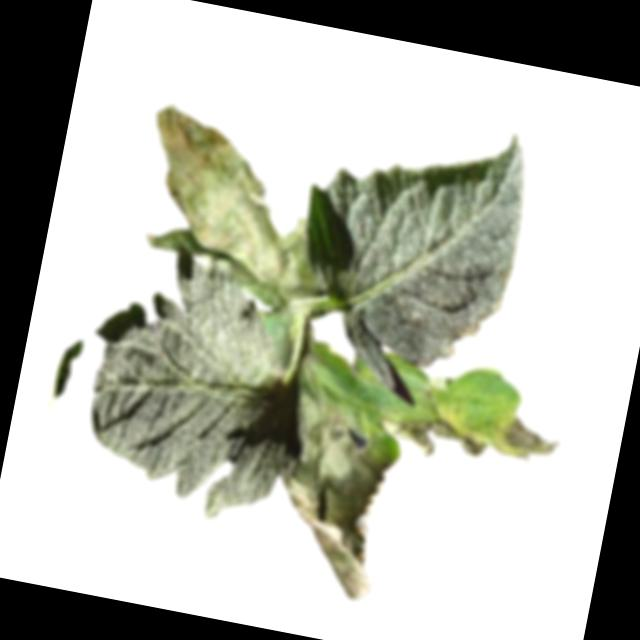Late_blight: (124, 101, 352, 315), (267, 398, 407, 605), (390, 405, 496, 468), (489, 412, 567, 469), (419, 373, 459, 416), (299, 350, 334, 383)
healthy: (275, 96, 539, 410), (63, 232, 334, 533)
